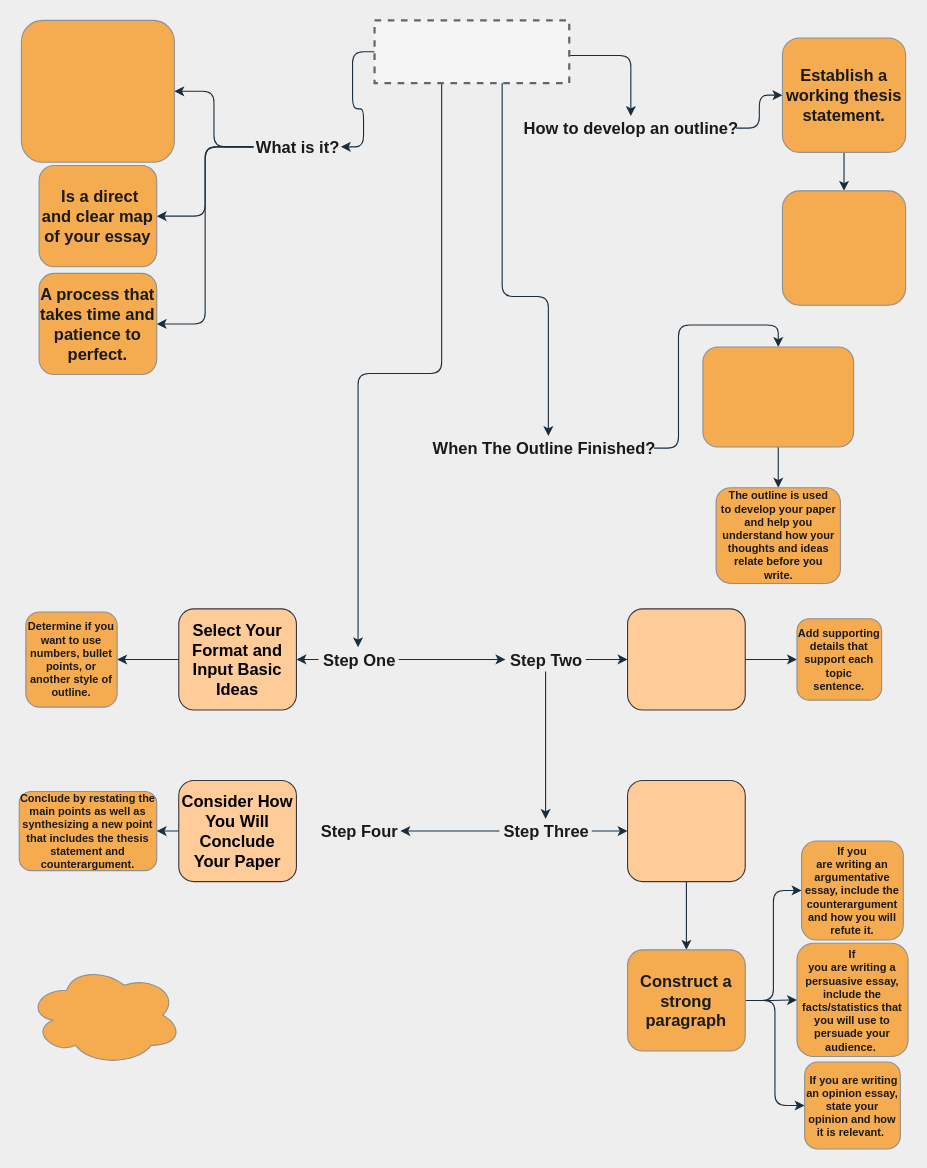
Image size: 927x1168. Some labels were removed from this diagram. Each missing label, with the box of its shape:
Add Supporting Information and Begin to Develop a Paragraph: (626, 608, 745, 710)
Elaborate on Supporting Information and Include Essay Details: (626, 779, 745, 882)
Gather the evidence you need to develop and support the claims.: (781, 190, 906, 305)
Outlines use bullet points or numbers to arrange information and convey points: (20, 19, 174, 162)
The outline: (373, 19, 570, 84)
Victor Manuel Galvan Covarrbias IDGS 8-3: (27, 964, 182, 1065)
Whenever you feel prepared to write your essay.: (702, 346, 854, 447)
